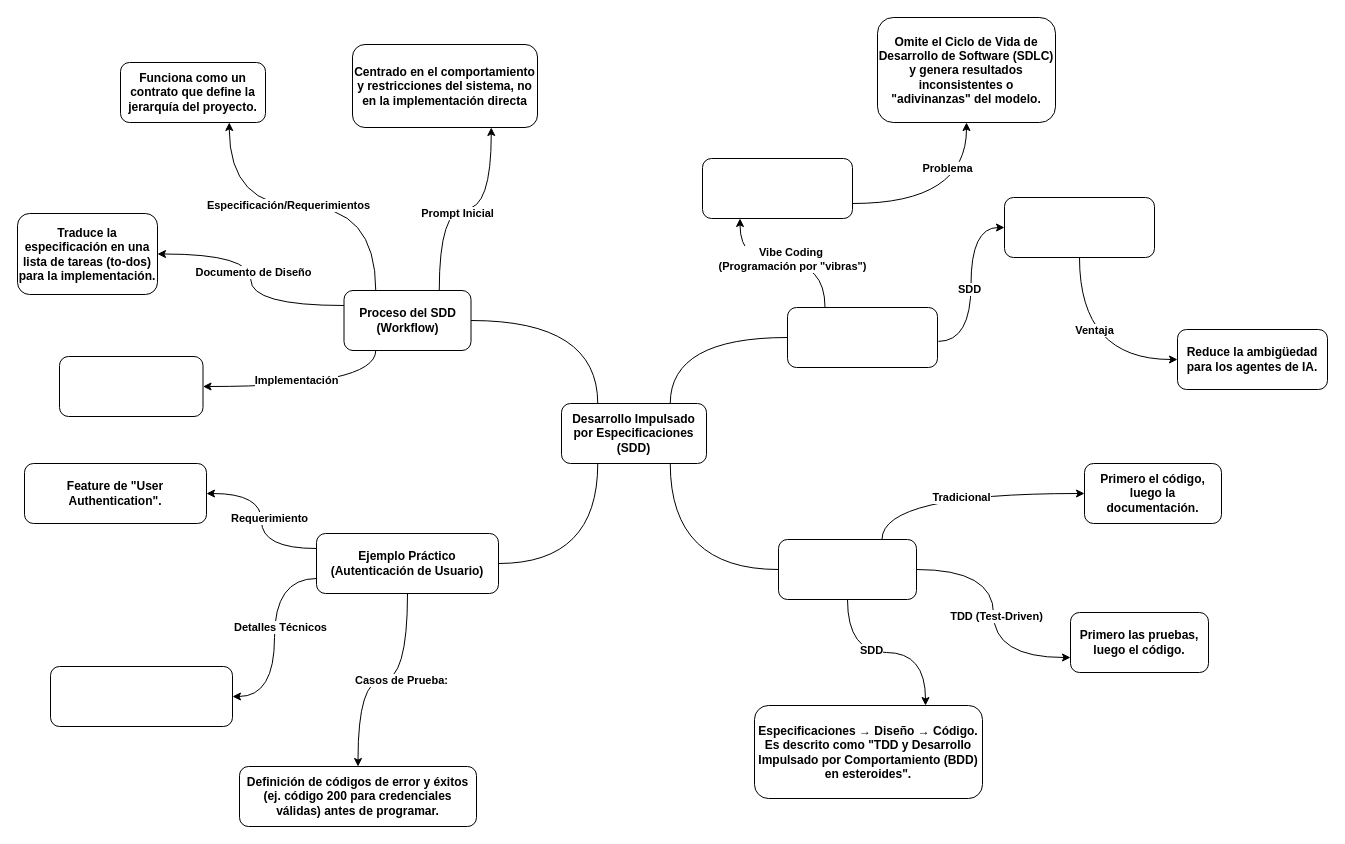
This 1345x844 diagram has some shape labels left out. The box of each missing label's shape, as (x1, y1, x2, y2) in pixels:
Basado en prompts iterativos y correcciones sobre la marcha .: (702, 158, 852, 218)
El agente de IA escribe el código basado en el diseño aprobado .: (58, 356, 203, 416)
Endpoint /login , método POST , variables user y pass .: (50, 666, 232, 726)
Evolución de los Modelos de Desarrollo: (778, 538, 916, 600)
Incorpora componentes del SDLC (Planificación, Diseño, Pruebas) .: (1004, 196, 1154, 258)
SDD vs. "Vibe Coding" (Comparativa): (786, 306, 938, 368)
